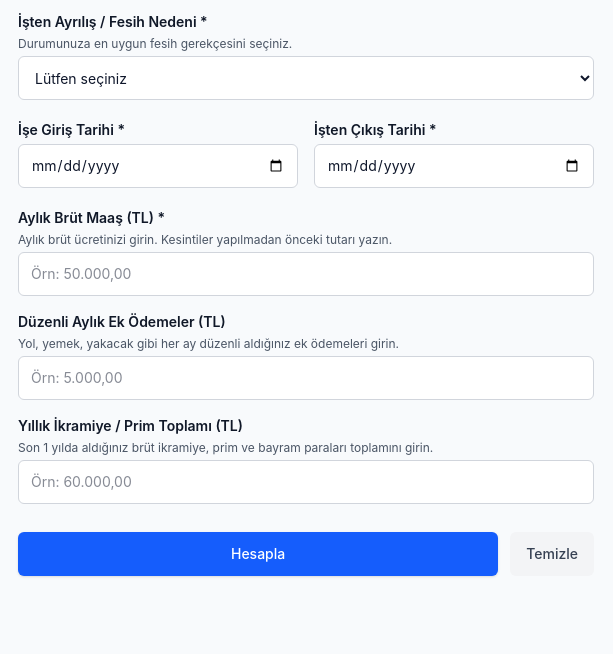
Scenario: CalculatorForm — Render ve Etkileşim Testleri › boş gönderimde hata mesajlarının çıktığını ve ilk hatalı alana odaklanıldığını doğrulamalı
Click the button "Hesapla". click: (258, 554)
box: top-left (18, 532), bottom-right (498, 576)
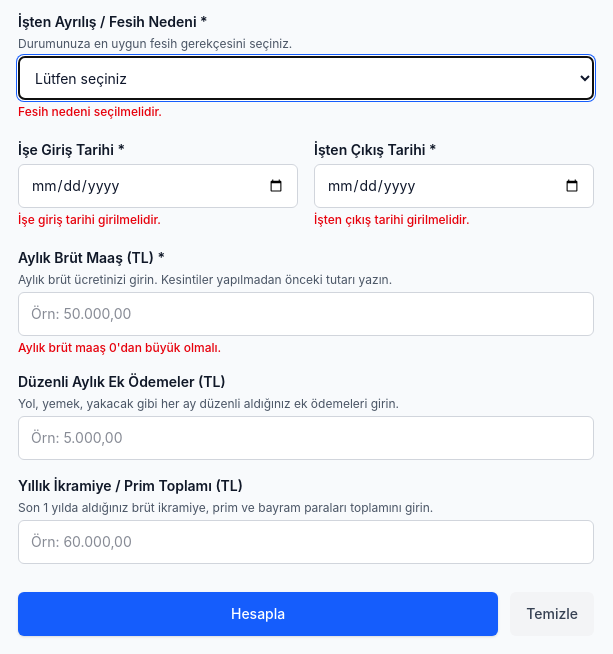
Expected: the text "Fesih nedeni seçilmelidir." is shown, top-left (18, 104), bottom-right (162, 119)
